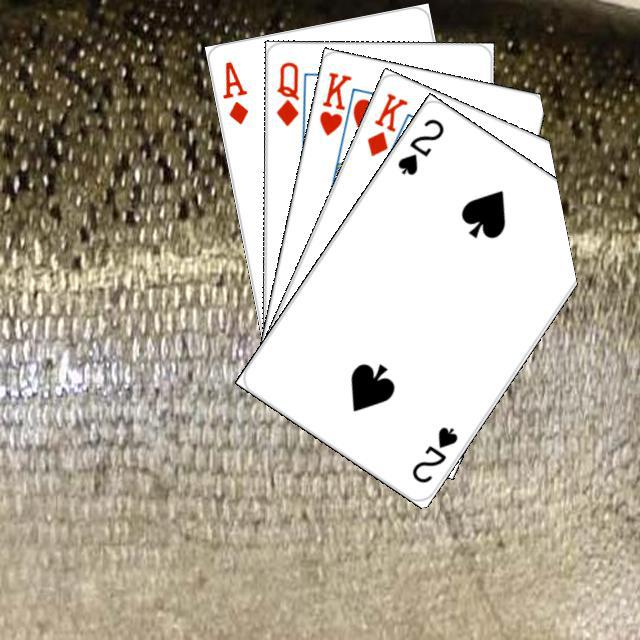2s: (392, 113, 446, 177), (406, 421, 460, 485)
Ad: (218, 56, 250, 126)
Kd: (361, 87, 410, 158)
Kh: (314, 67, 360, 147)
Qd: (272, 57, 301, 127)
